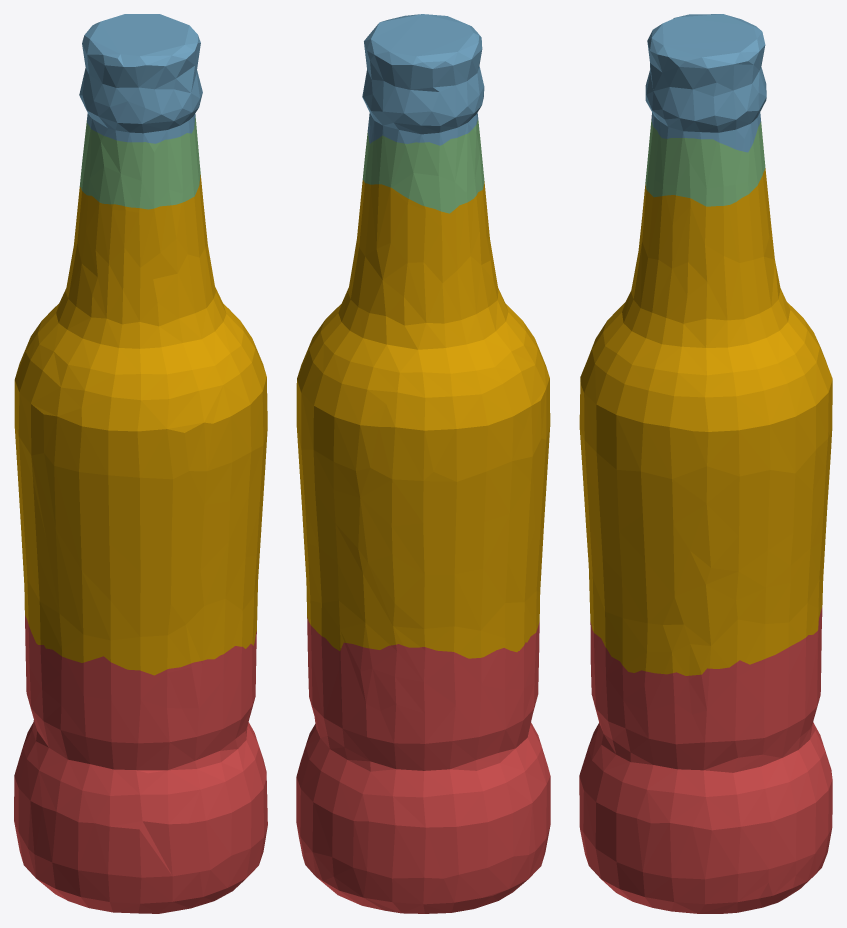
Rendered from fractured_4_4pcs.glb.
The picture shows the model from 3 angles, left to right: view 1: azimuth 30°, elevation 25°; view 2: azimuth 150°, elevation 25°; view 3: azimuth 270°, elevation 25°; orthographic projection.
Parts seen in each view (by area): view 1: piece_0.obj, piece_1.obj, piece_2.obj, piece_3.obj; view 2: piece_0.obj, piece_1.obj, piece_2.obj, piece_3.obj; view 3: piece_0.obj, piece_1.obj, piece_2.obj, piece_3.obj.
Boxes of the visible parts, box(x1,y1,x2,y2) form: piece_0.obj: box(14, 175, 267, 675); piece_1.obj: box(14, 615, 267, 913); piece_2.obj: box(79, 14, 202, 143); piece_3.obj: box(79, 116, 200, 209); piece_0.obj: box(296, 180, 550, 658); piece_1.obj: box(296, 617, 550, 913); piece_2.obj: box(362, 14, 484, 145); piece_3.obj: box(362, 119, 484, 213); piece_0.obj: box(579, 168, 832, 675); piece_1.obj: box(579, 607, 832, 913); piece_2.obj: box(645, 14, 766, 152); piece_3.obj: box(645, 119, 765, 206).
Size of the model in its own units: 0.2746 by 1 by 0.2742.
